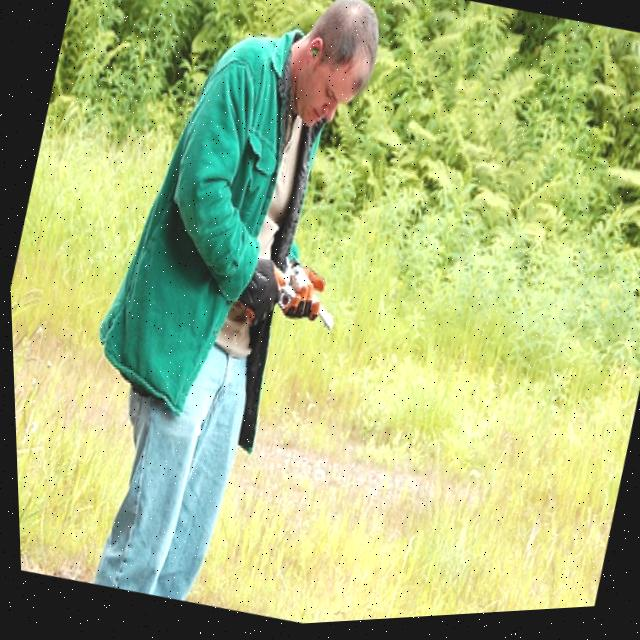pistol: (268, 252, 345, 335)
